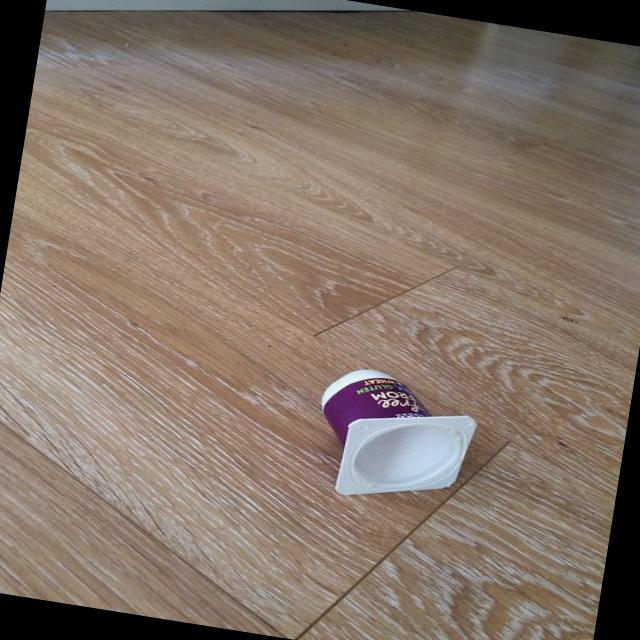Trash: (306, 362, 488, 520)
